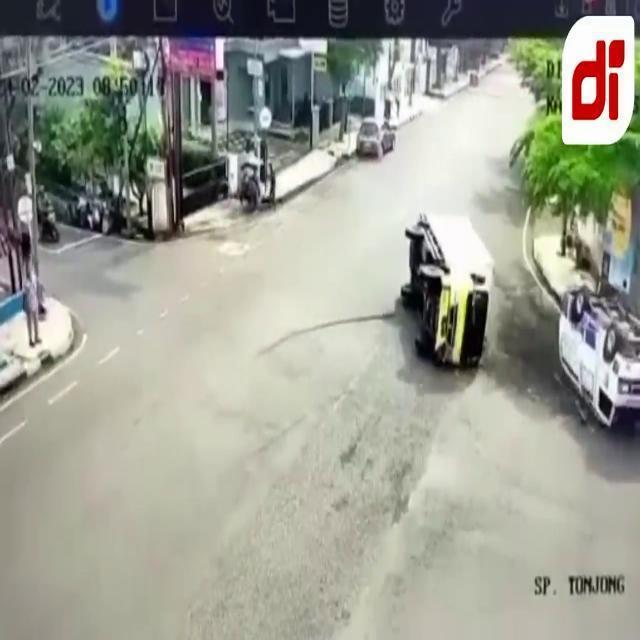accident: (404, 210, 640, 434), (407, 211, 493, 367), (556, 283, 640, 432)
